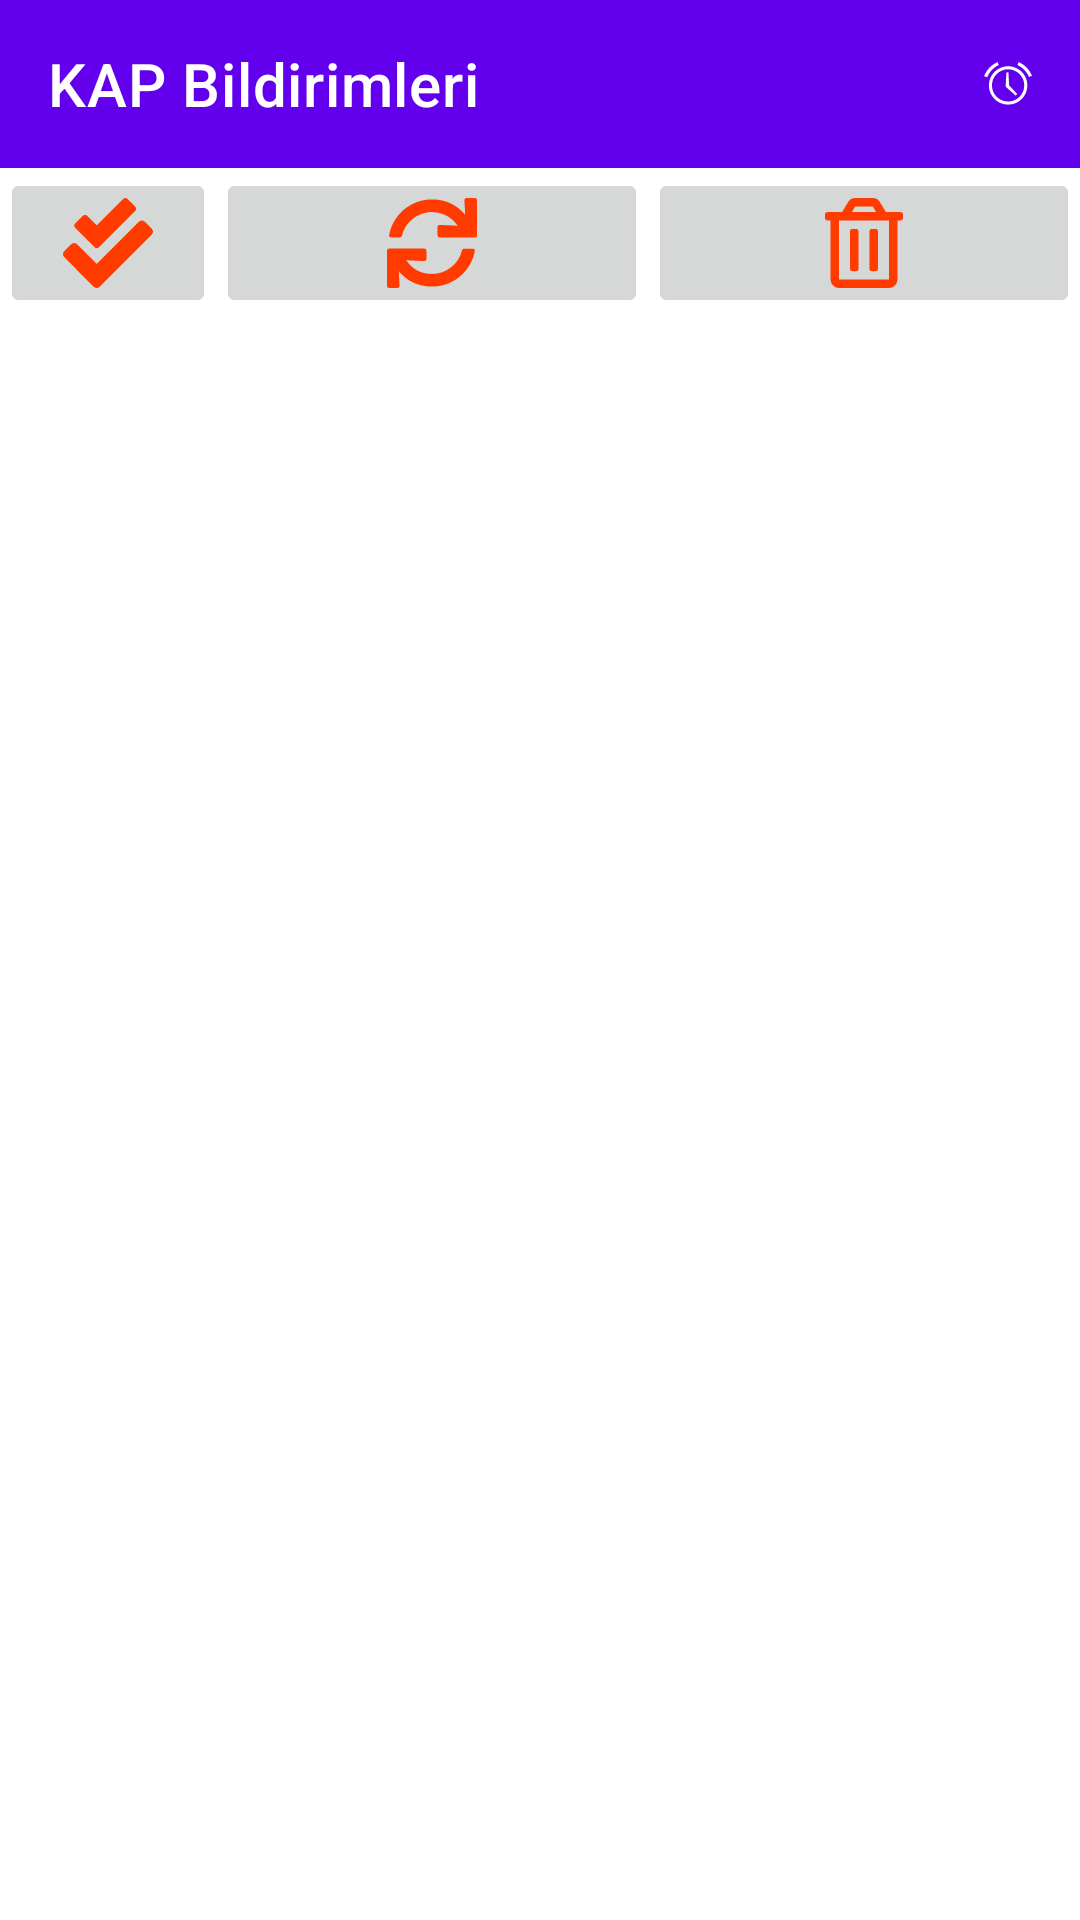

Where icons sit on this 1080x1920 app screen, as box=[x1, y1, x2, y2]:
check all: box=[12, 186, 204, 300]
